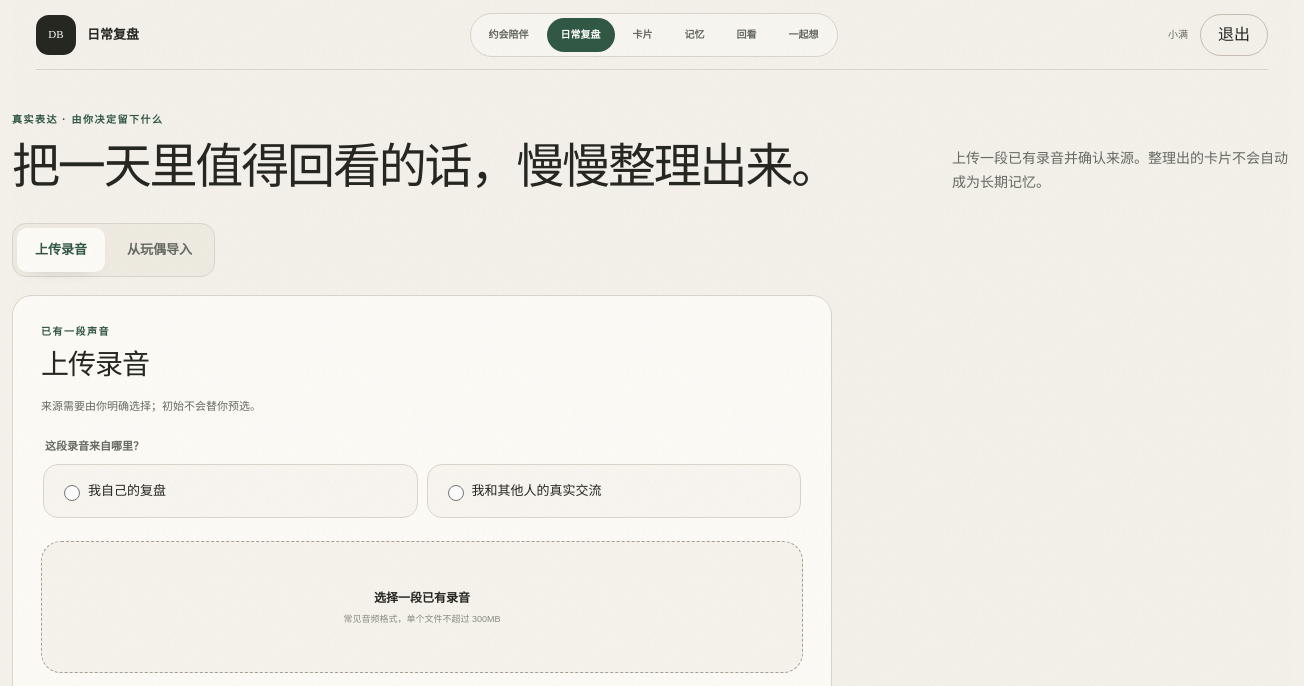
DailyReflectionShellContent › keeps toy sync off by default and preserves manual upload when it is enabled
Check: the heading "连接玩偶录音" is not shown
Click the tab "从玩偶导入" at (160, 250), box [109,228,210,272]
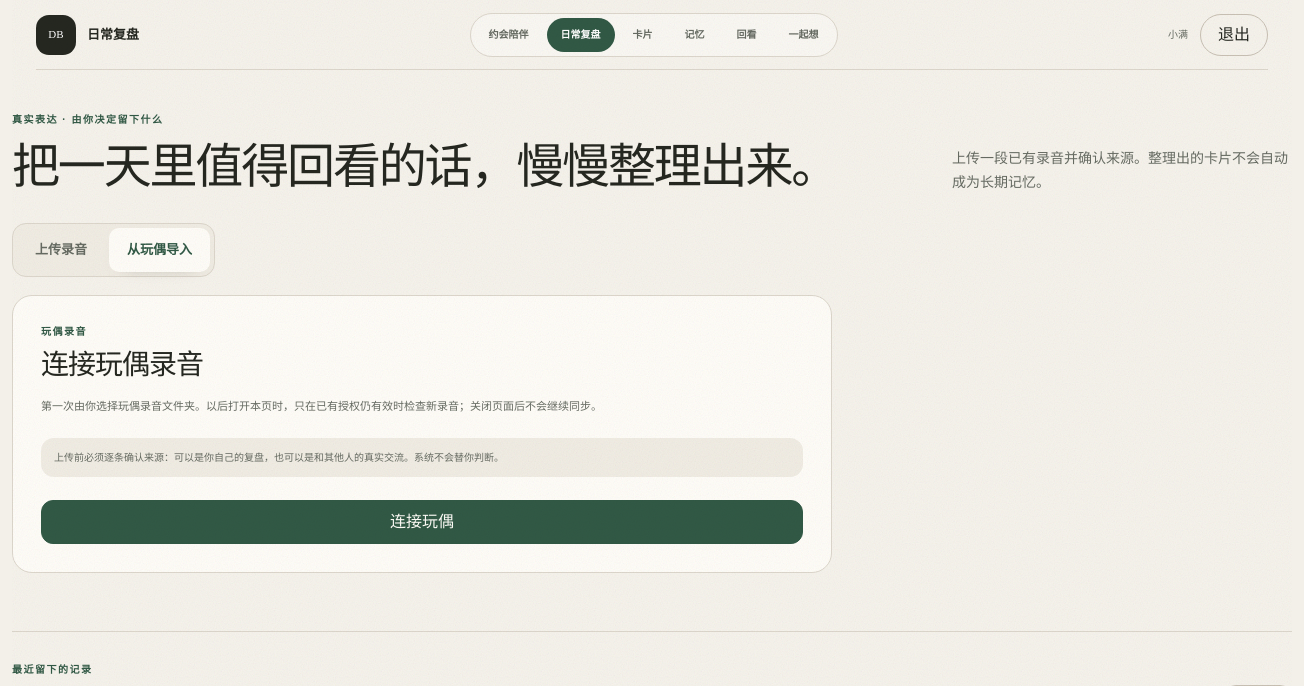
Check: the heading "连接玩偶录音" is shown, box [41,344,203,386]
